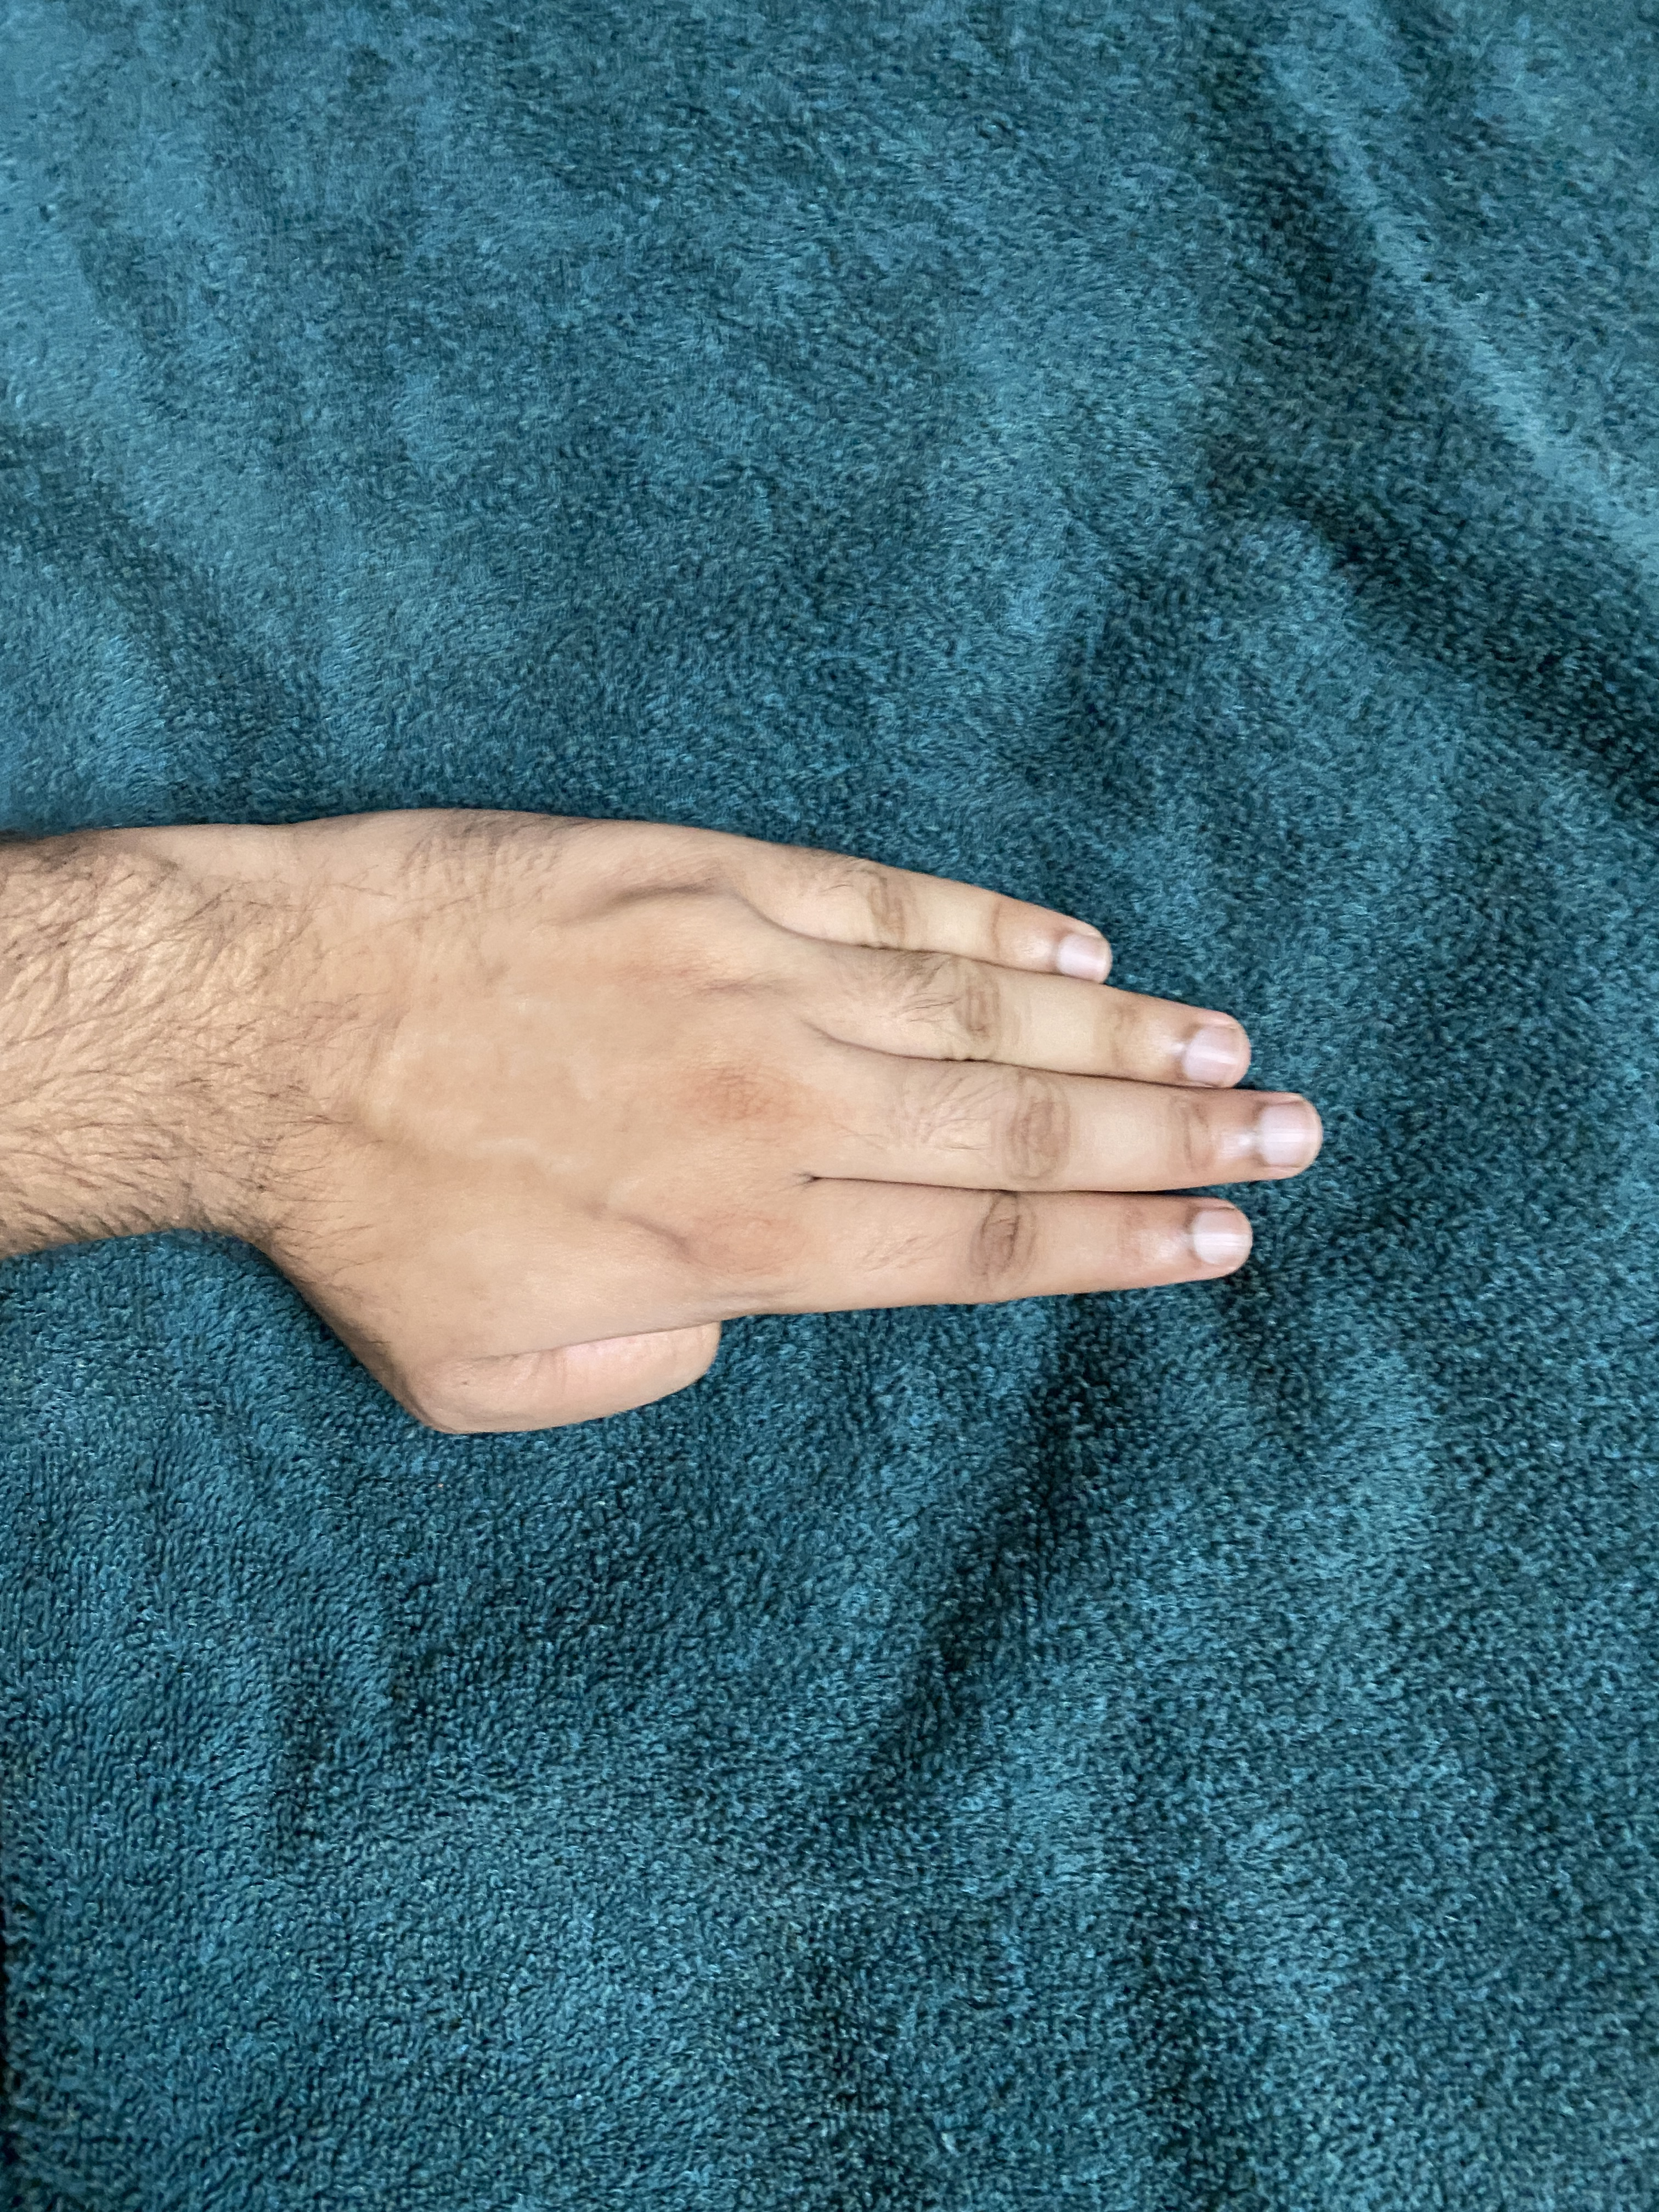left: (7, 719, 1417, 1561)
